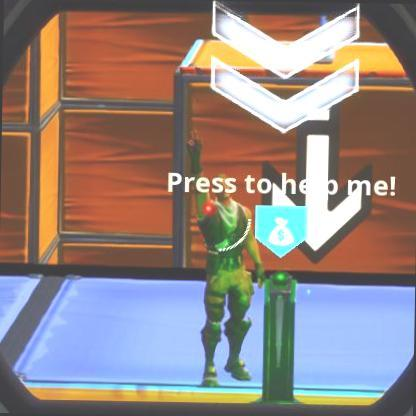person: (178, 157, 253, 363)
